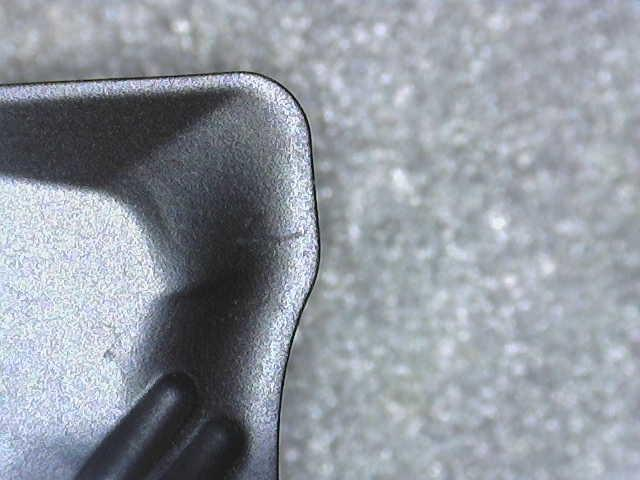normal: (0, 67, 323, 480)
